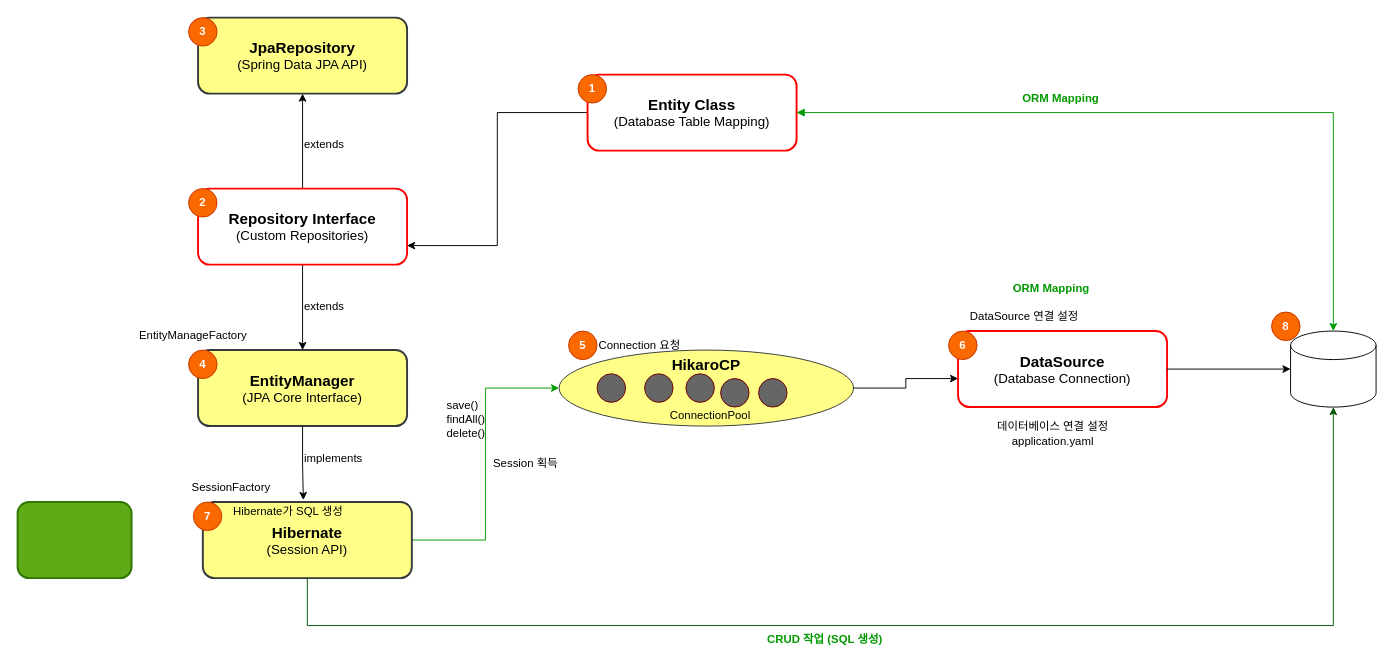
Some shapes in this 1393 by 670 pixel diagram are drawn without their labels. Here are the shapes that lost their labels. From the top down, the centre of each, then its label:
the point at 1333,368: DataBase
the point at 74,540: Hibernate (JPA 구현체)
